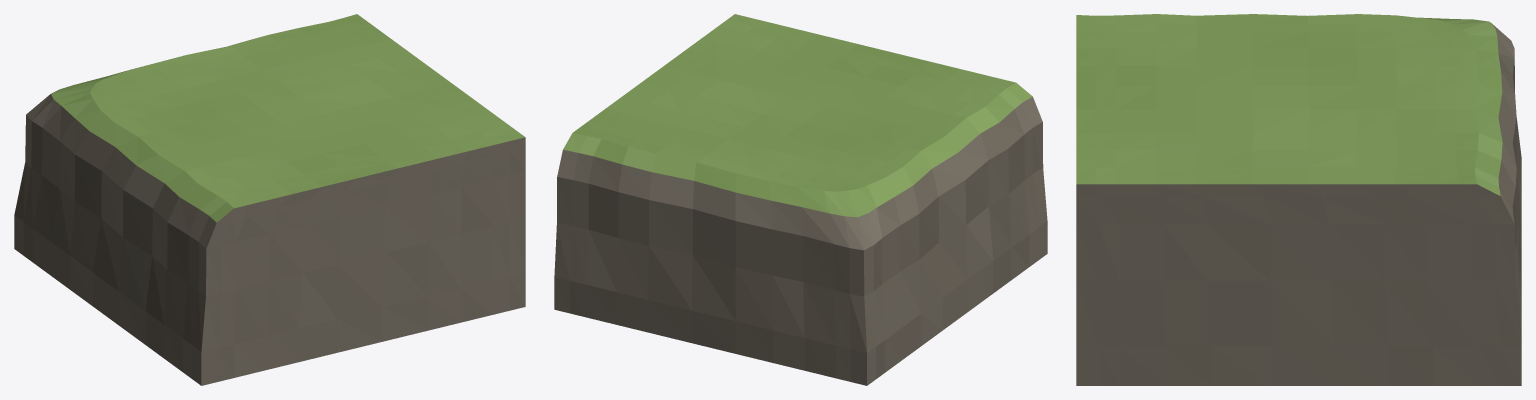
The model's file is grass_corner.glb.
3 renders of one model, left to right at view 1: azimuth 30°, elevation 25°; view 2: azimuth 150°, elevation 25°; view 3: azimuth 270°, elevation 25°, orthographic. The views are drawn at different scales.
Visible parts, largest first — view 1: grass_corner; view 2: grass_corner; view 3: grass_corner.
Part boxes in pixels (x1,y1,x2,y2): grass_corner: (14, 14, 525, 385); grass_corner: (554, 14, 1047, 385); grass_corner: (1076, 14, 1521, 385).
Bounding box in the file's own units: 1 × 0.5 × 1.
